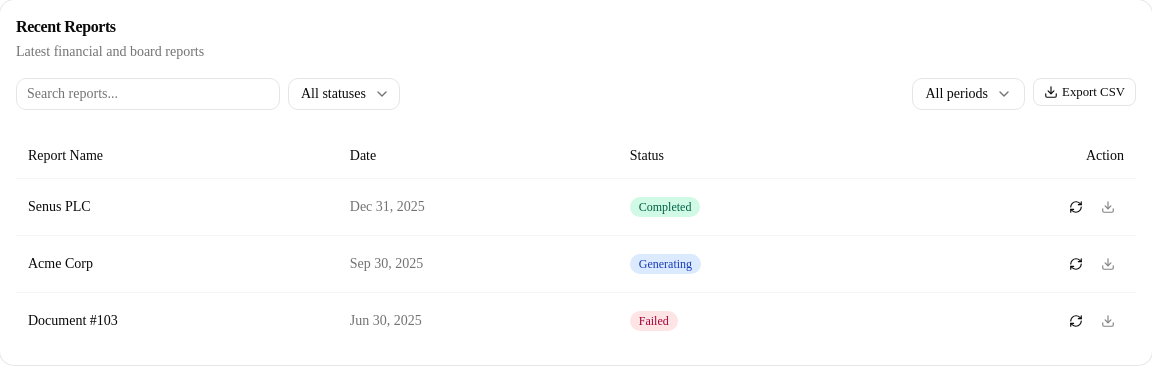
ReportsTable › filters by period (year/month of created_at), not the free-text reporting_period
Click the dropdown named "Filter by period": coordinates (969, 94) [912, 78, 1025, 110]
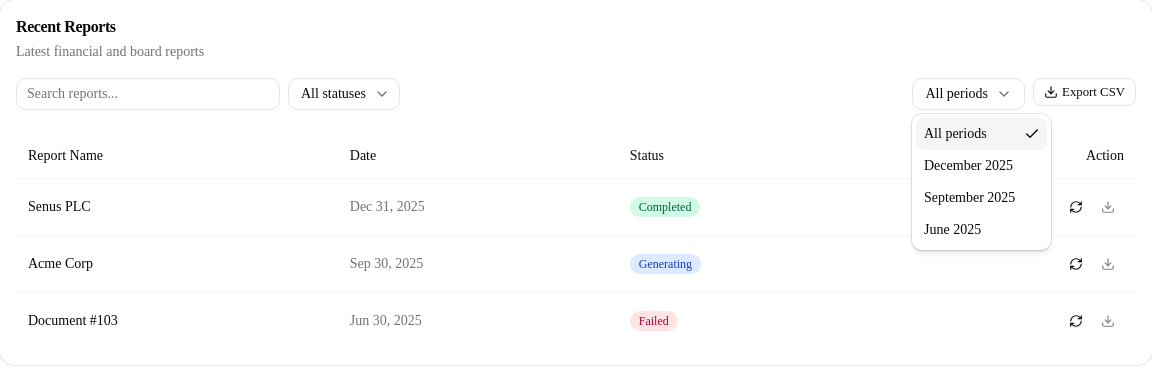
Click the option "December 2025": coordinates (968, 166) [924, 158, 1013, 173]
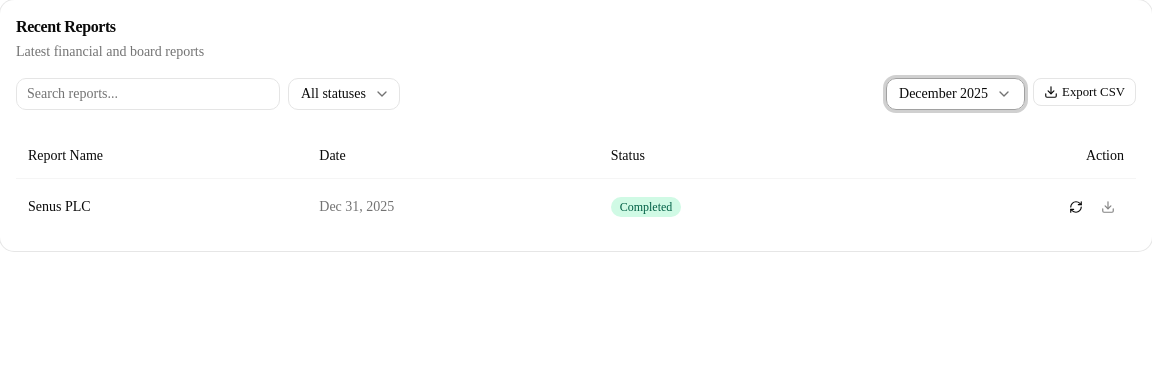
Expected: the text "Senus PLC" is shown, [16, 178, 307, 234]
Expected: the text "Acme Corp" is gone
Expected: the text "Document #103" is gone
